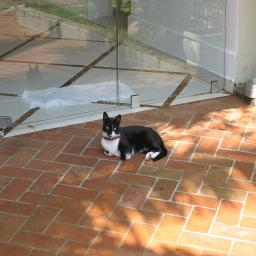catnose: (109, 130, 113, 134)
